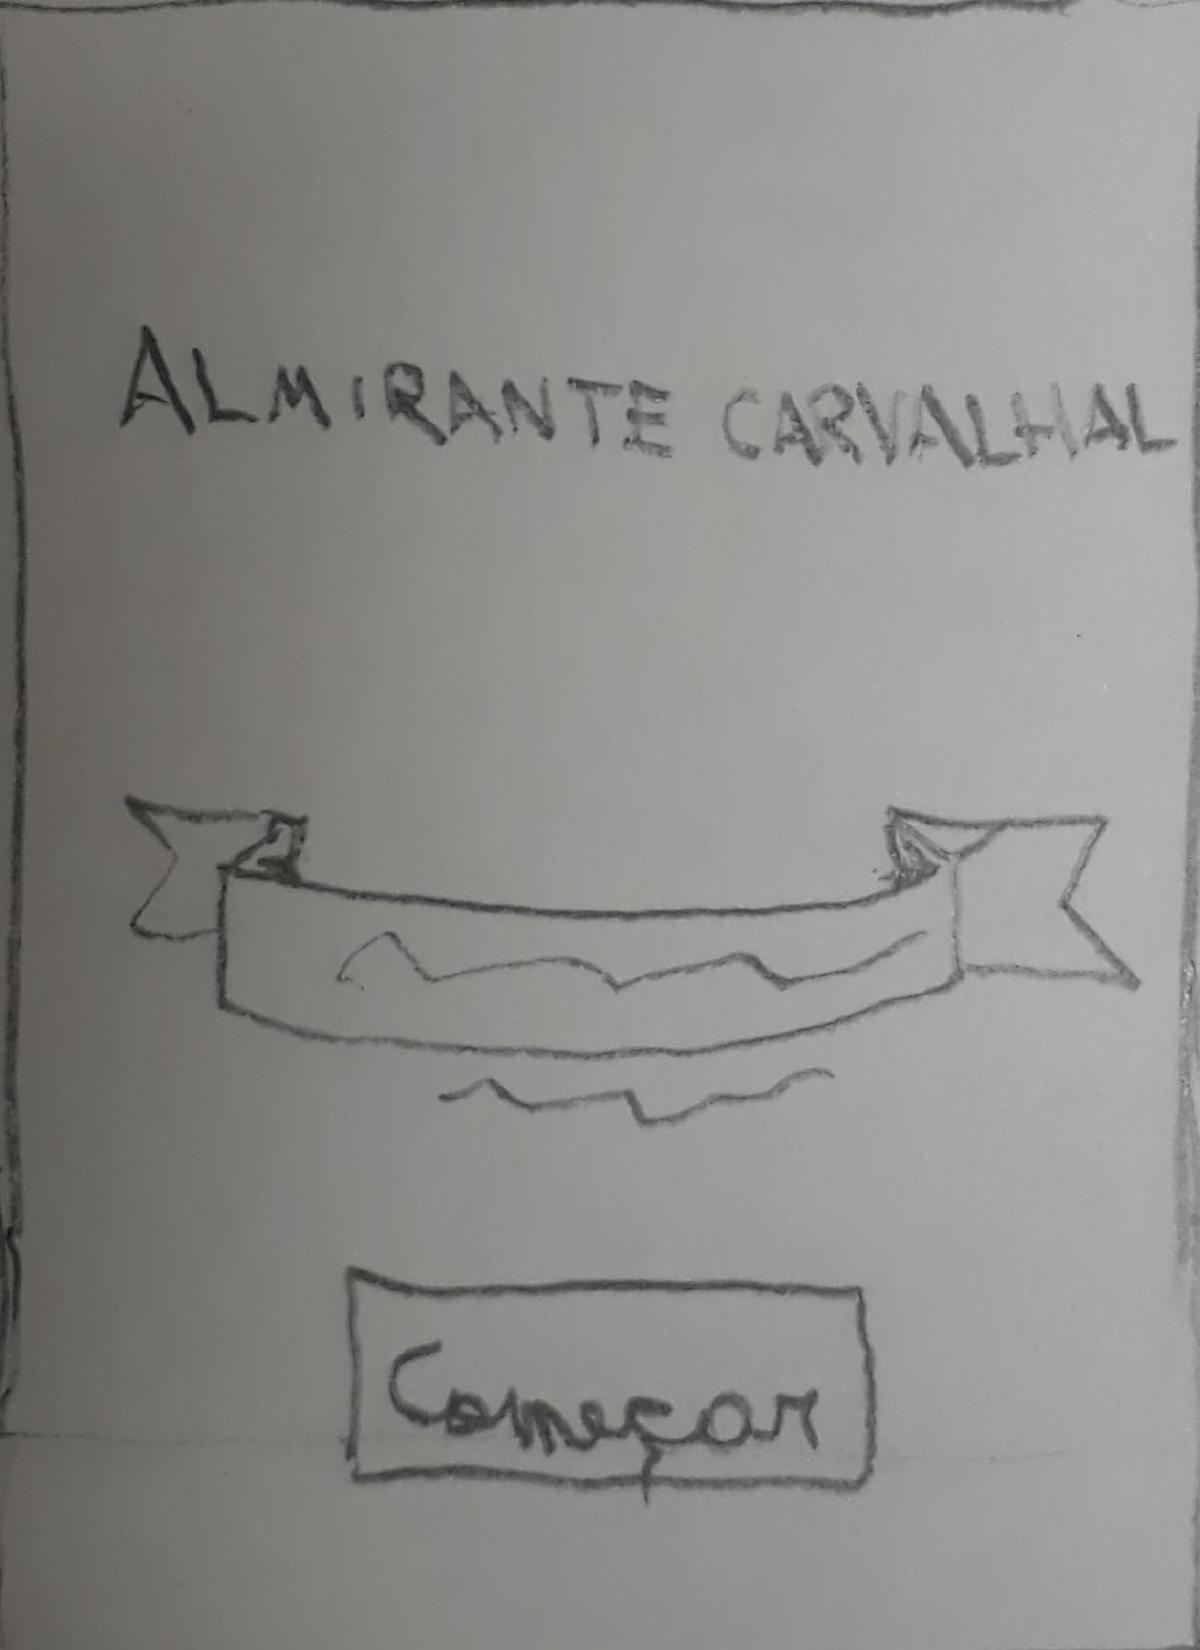Button: (329, 1266, 876, 1491)
Image: (118, 774, 1145, 1140)
Label: (117, 323, 1178, 471)
Screen: (1, 4, 1199, 1647)
